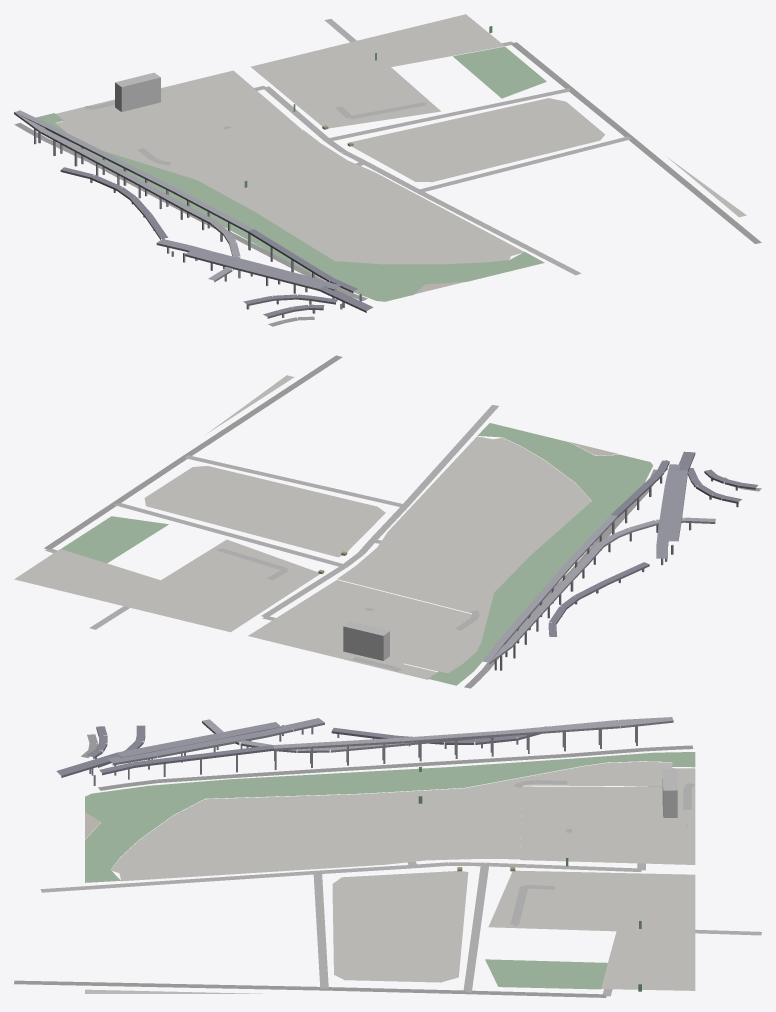
3 views of the same model, one above another, from view 1: azimuth 30°, elevation 25°; view 2: azimuth 150°, elevation 25°; view 3: azimuth 270°, elevation 25° (orthographic). The views are drawn at different scales.
Size of the model in its own units: 513 by 26.56 by 613.
